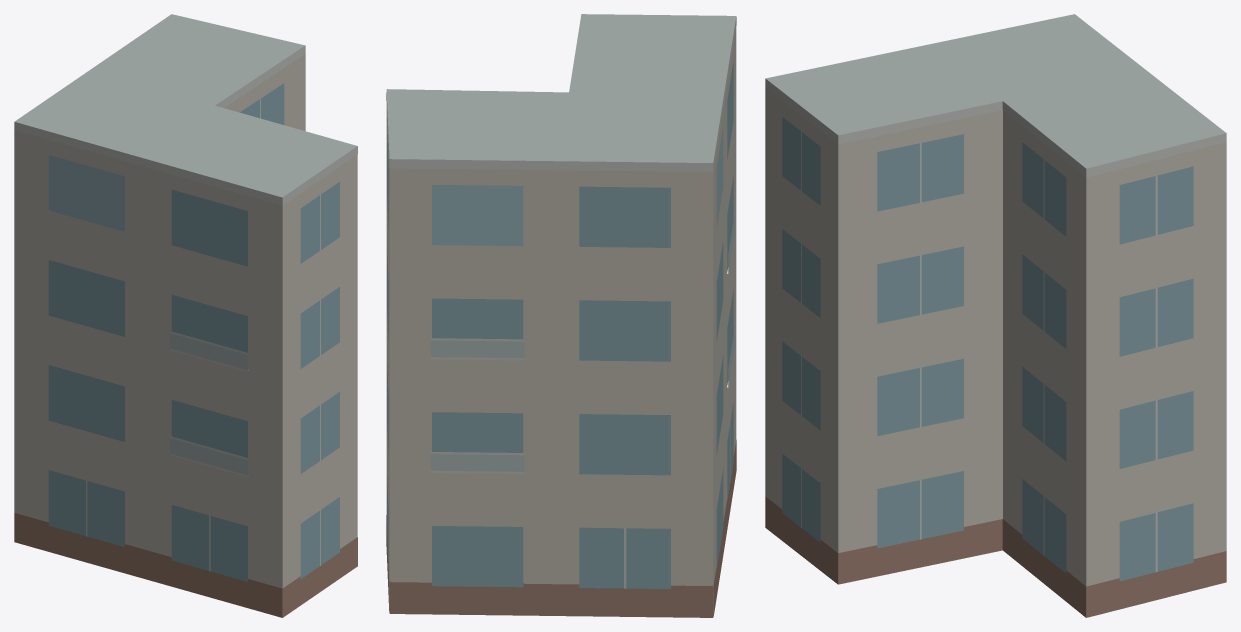
Rendered from survey-upis-32534650.glb.
3 renders of one model, left to right at view 1: azimuth 30°, elevation 25°; view 2: azimuth 150°, elevation 25°; view 3: azimuth 270°, elevation 25°, orthographic. The views are drawn at different scales.
Visible parts, largest first — view 1: survey-upis-32534650.tmp; view 2: survey-upis-32534650.tmp; view 3: survey-upis-32534650.tmp.
Part boxes in pixels (x1,y1,x2,y2): survey-upis-32534650.tmp: [14, 14, 357, 617]; survey-upis-32534650.tmp: [386, 14, 736, 617]; survey-upis-32534650.tmp: [765, 14, 1226, 617].
Bounding box in the file's own units: 9.02 × 12.2 × 11.36.
